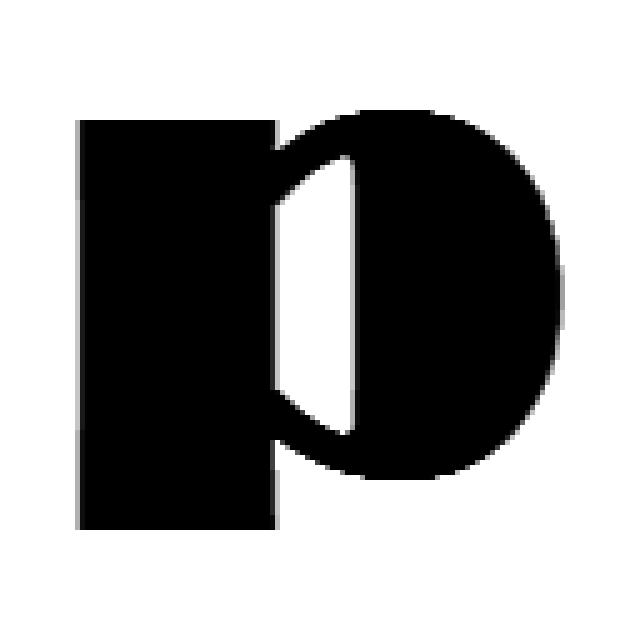P: (75, 110, 560, 535)
